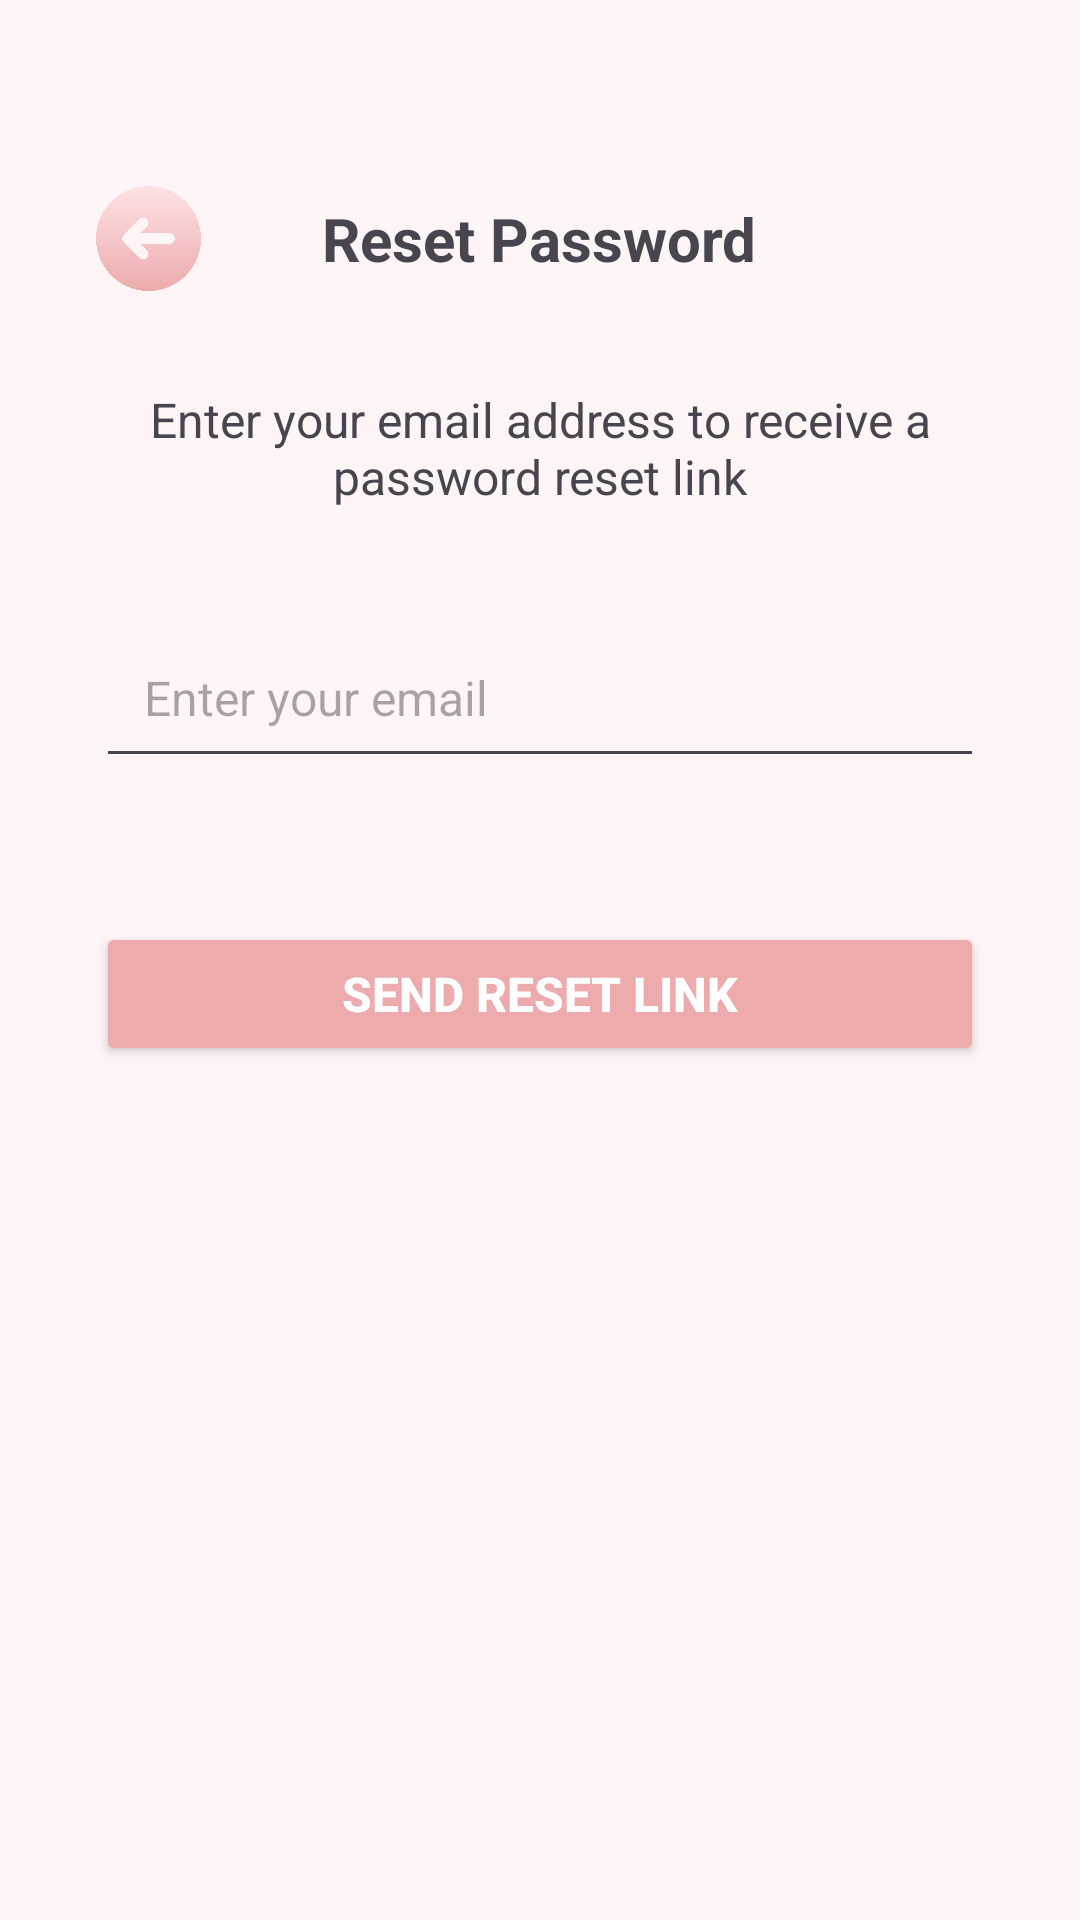

Where icons sit on this 1080*1920 app screen, as (x1=x1, y1=y1, x2=x2, y2=y2):
Back to login: (x1=96, y1=195, x2=201, y2=291)
